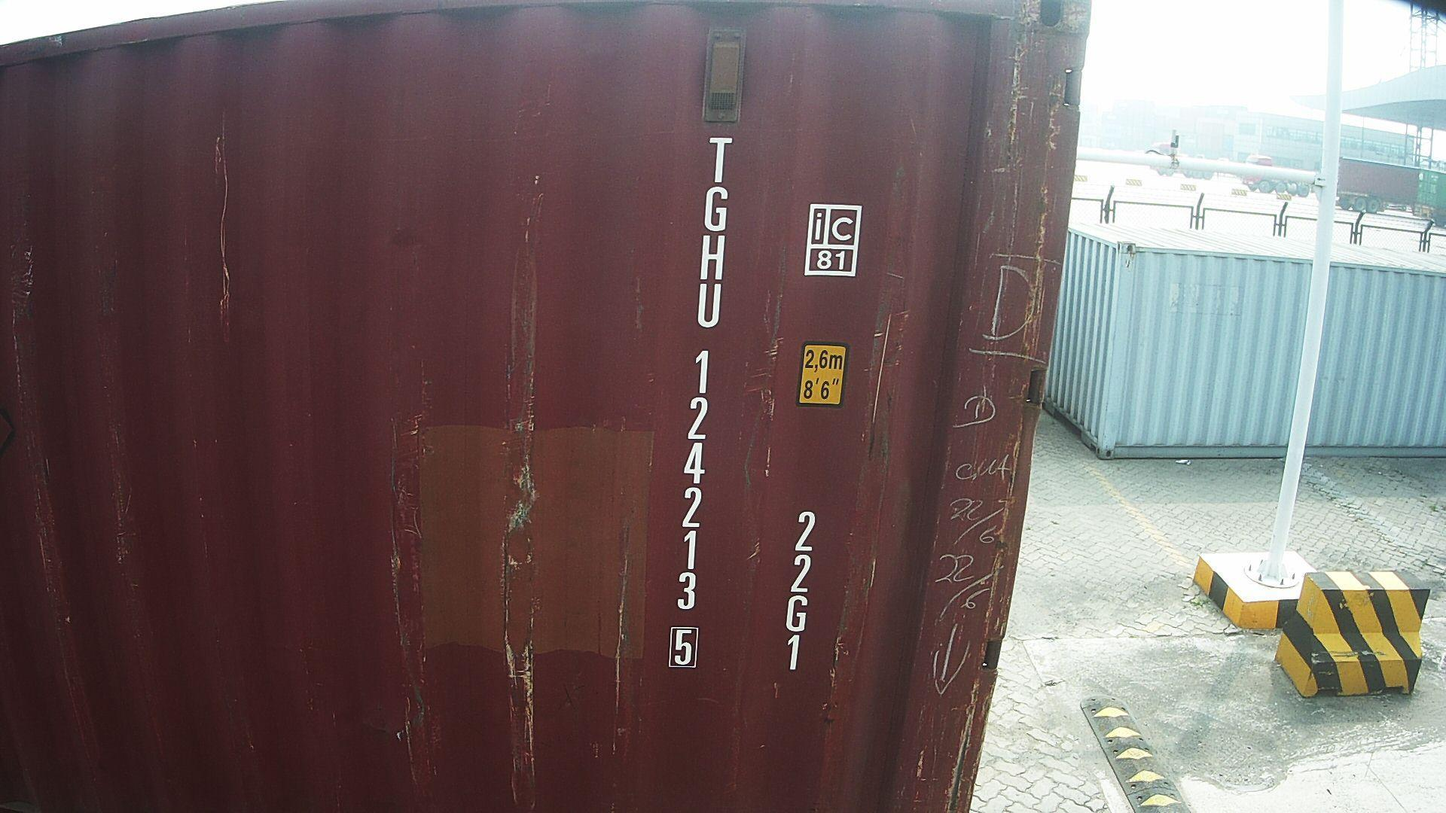container-numbers: (664, 132, 735, 676), (776, 504, 822, 676)
